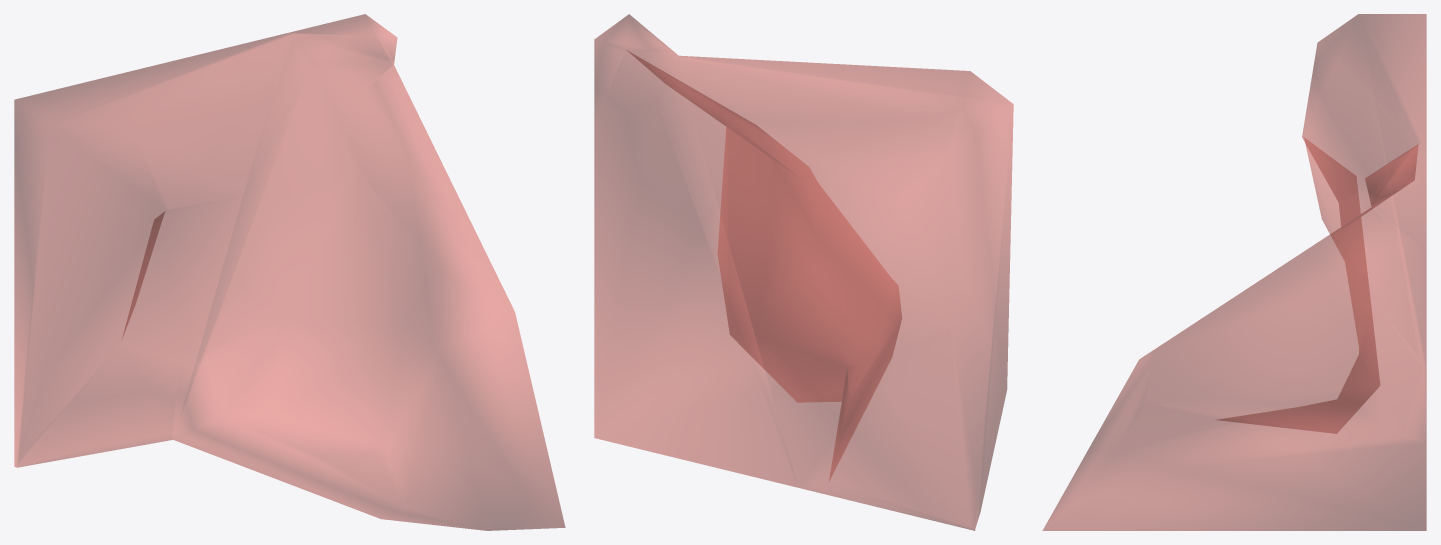
Rendered from Part2_001_Bogdan.fbx.
The picture shows the model from 3 angles, left to right: view 1: azimuth 30°, elevation 25°; view 2: azimuth 150°, elevation 25°; view 3: azimuth 270°, elevation 25°; orthographic projection. The views are drawn at different scales.
Visible parts, largest first — view 1: Part2.001; view 2: Part2.001; view 3: Part2.001.
Boxes of the visible parts, x1,y1,x2,y2 form: Part2.001: (14, 14, 565, 530); Part2.001: (594, 14, 1013, 530); Part2.001: (1042, 14, 1426, 530).
Bounding box in the file's own units: 60 × 60 × 59.27.
